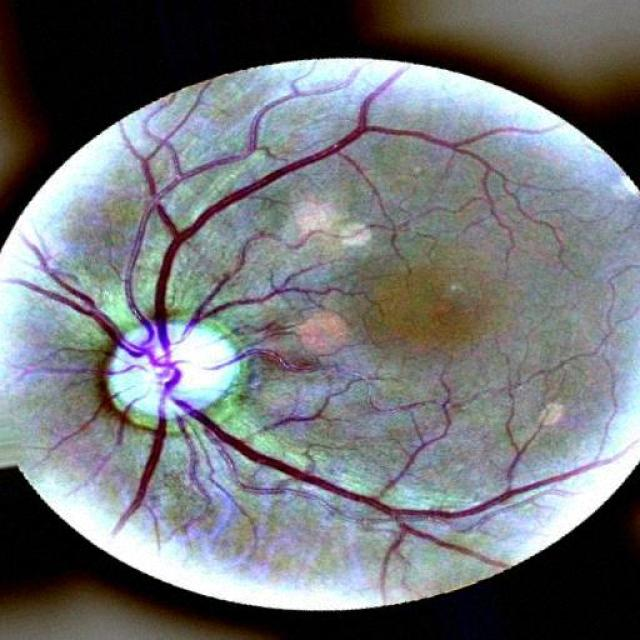Macula: (352, 255, 511, 360)
Nerves: (38, 82, 618, 576)
Optic Disk: (72, 301, 255, 437)
